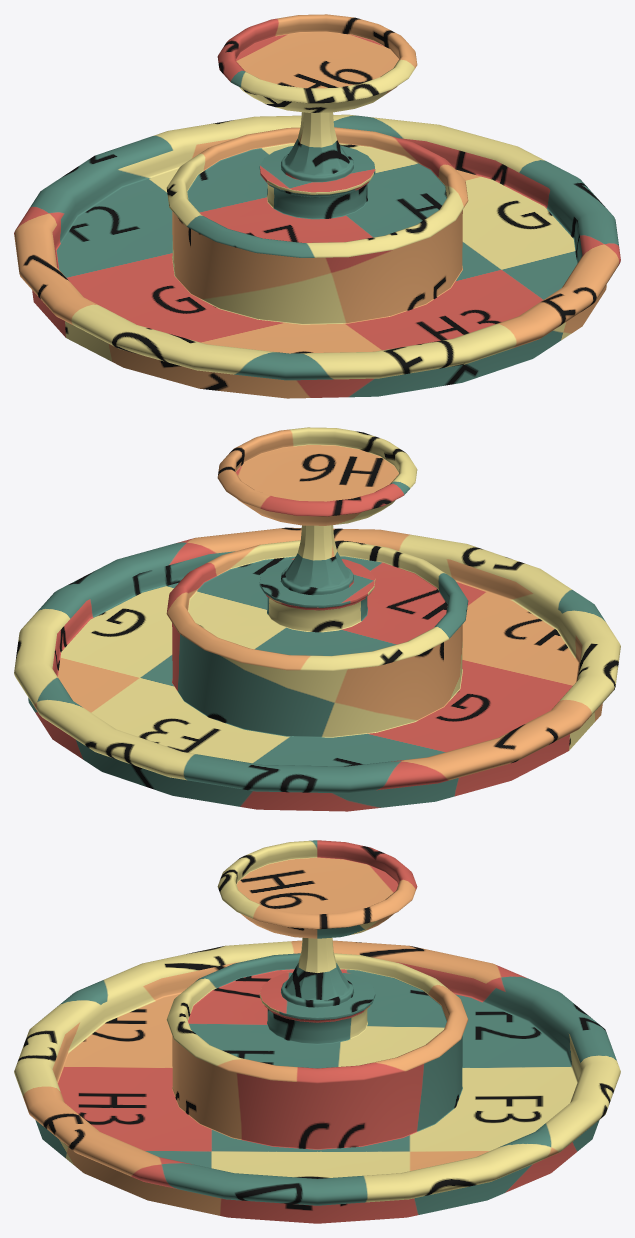
Rendered from Fountain_LP.fbx.
3 views of the same model, one above another, from view 1: azimuth 30°, elevation 25°; view 2: azimuth 150°, elevation 25°; view 3: azimuth 270°, elevation 25° (orthographic).
Visible parts, largest first — view 1: Fountain_LP; view 2: Fountain_LP; view 3: Fountain_LP.
Part boxes in pixels (x1=…): Fountain_LP: x1=14, y1=14, x2=620, y2=398; Fountain_LP: x1=14, y1=427, x2=620, y2=811; Fountain_LP: x1=14, y1=840, x2=620, y2=1223.
Size of the model in its own units: 1052 by 427 by 1050.
